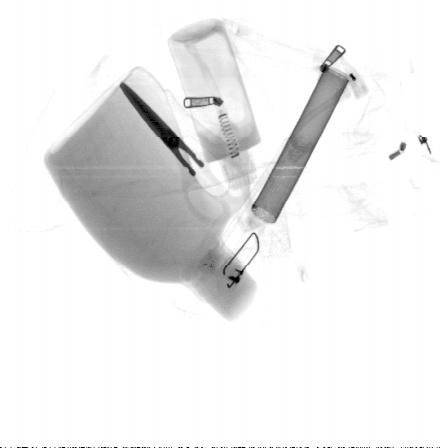Scissors: (118, 80, 246, 228)
